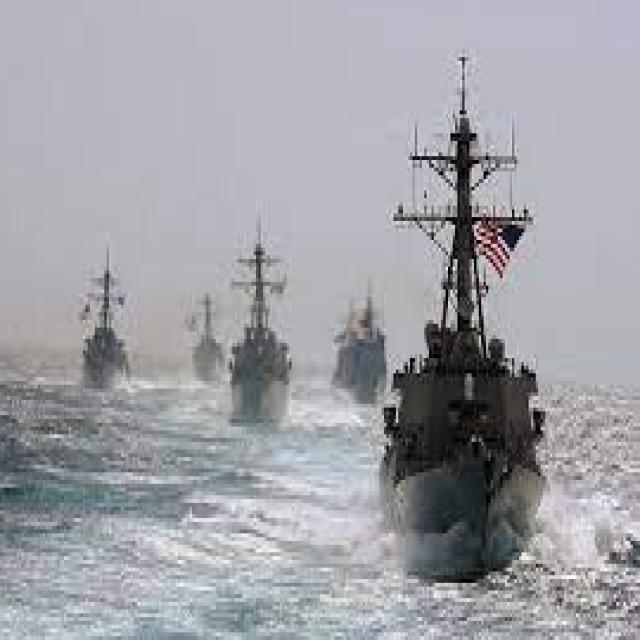navalvessels: (370, 48, 573, 574), (222, 232, 299, 440), (74, 240, 142, 398), (323, 283, 391, 393), (189, 284, 228, 391)
